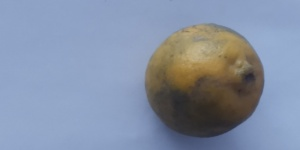BAD: (145, 20, 270, 142)
